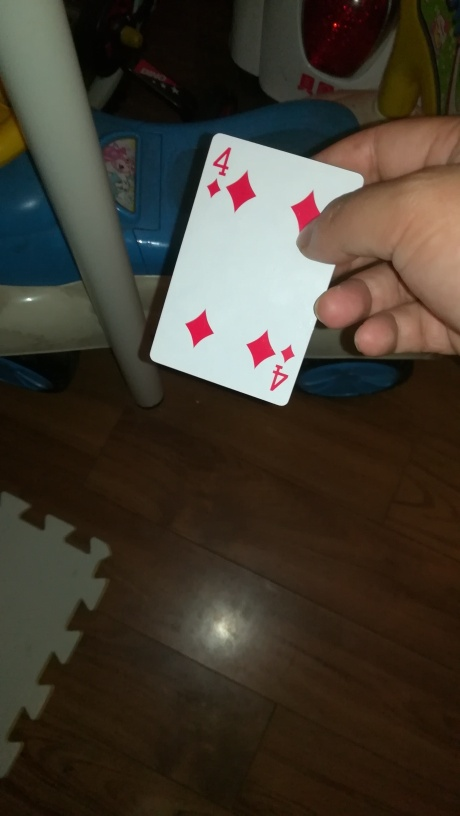fk 4: (150, 133, 366, 421)
